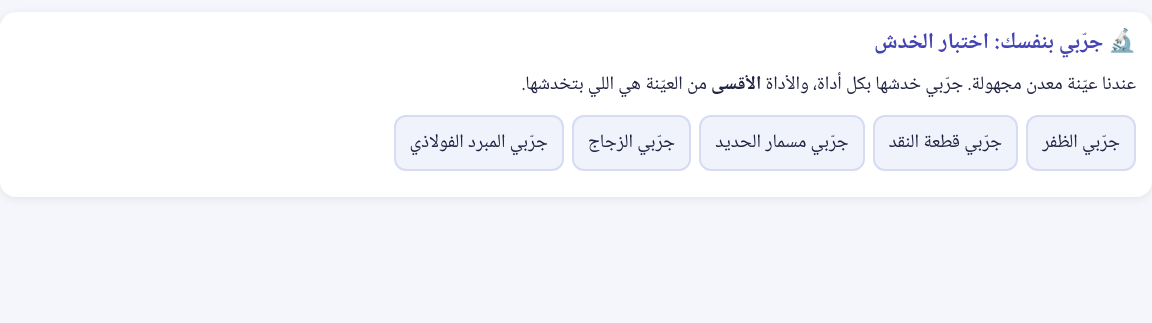
Scenario: MohsSim › تخدش الأداة الأقسى فقط
Click the button "جرّبي الظفر" at (1081, 143), box x1=1026 y1=115 x2=1136 y2=171
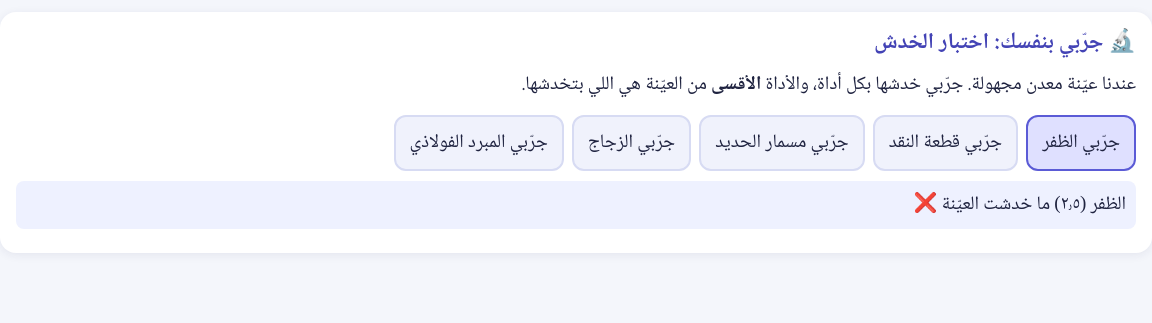
Click the button "جرّبي مسمار الحديد" at (782, 143), box x1=699 y1=115 x2=865 y2=171
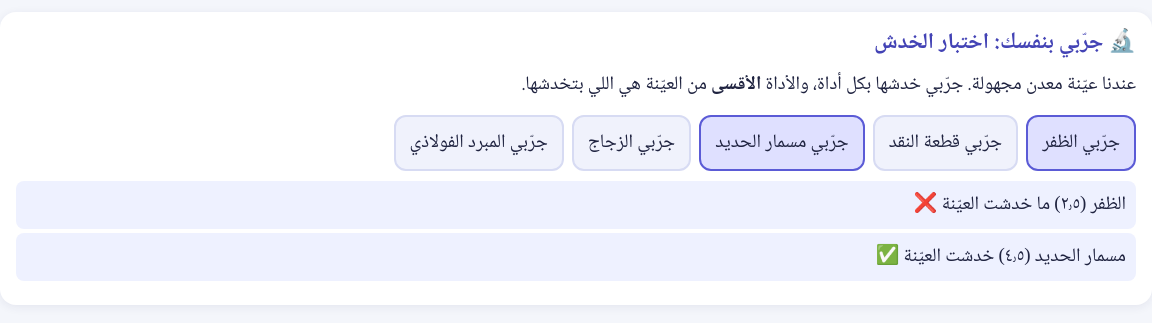
Now the list item "الظفر (٢٫٥) ما خدشت العيّنة ❌" is shown, box x1=16 y1=181 x2=1136 y2=229
Now the list item "مسمار الحديد (٤٫٥) خدشت العيّنة ✅" is shown, box x1=16 y1=233 x2=1136 y2=281
